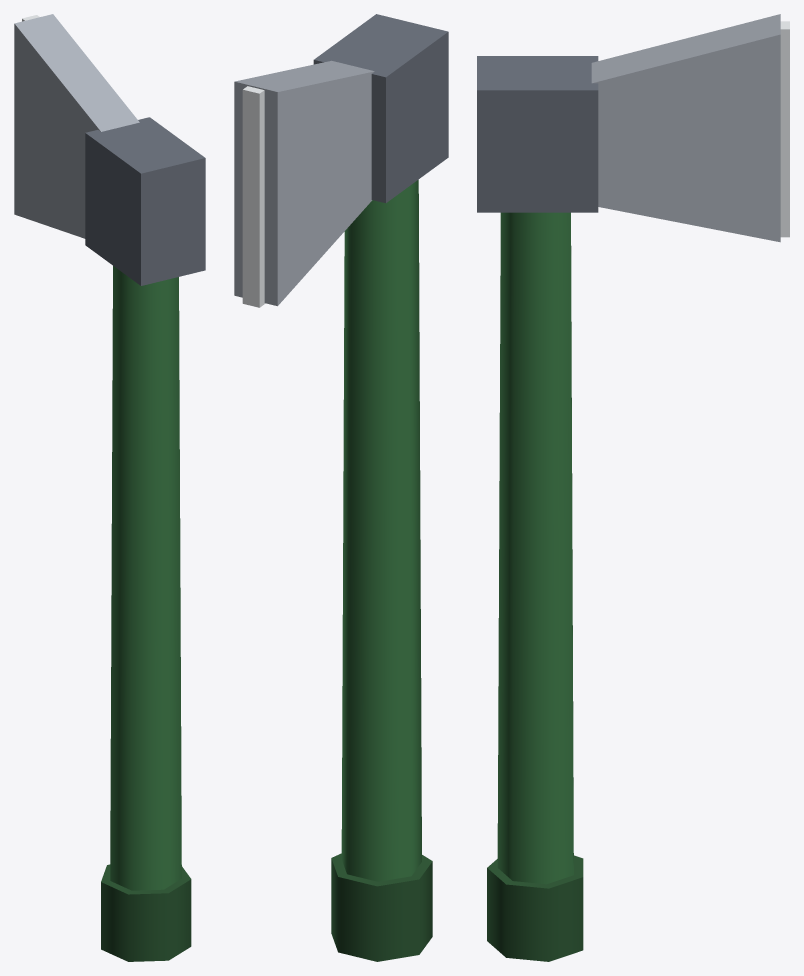
File: tool_twins.glb
3 renders of one model, left to right at view 1: azimuth 30°, elevation 25°; view 2: azimuth 150°, elevation 25°; view 3: azimuth 270°, elevation 25°, orthographic. The views are drawn at different scales.
Visible parts, largest first — view 1: _MeshInstance3D_855, _MeshInstance3D_857, _MeshInstance3D_858, _MeshInstance3D_856; view 2: _MeshInstance3D_855, _MeshInstance3D_858, _MeshInstance3D_857, _MeshInstance3D_856, _MeshInstance3D_859; view 3: _MeshInstance3D_855, _MeshInstance3D_858, _MeshInstance3D_857, _MeshInstance3D_856, _MeshInstance3D_859.
Boxes of the visible parts, x1,y1,x2,y2 form: _MeshInstance3D_855: (110, 266, 181, 890); _MeshInstance3D_857: (85, 117, 205, 285); _MeshInstance3D_858: (14, 14, 139, 238); _MeshInstance3D_856: (101, 864, 191, 961); _MeshInstance3D_855: (341, 180, 421, 881); _MeshInstance3D_858: (234, 60, 374, 306); _MeshInstance3D_857: (313, 14, 448, 203); _MeshInstance3D_856: (331, 853, 432, 961); _MeshInstance3D_859: (242, 86, 265, 307); _MeshInstance3D_855: (497, 212, 573, 884); _MeshInstance3D_858: (591, 14, 780, 242); _MeshInstance3D_857: (477, 56, 598, 212); _MeshInstance3D_856: (487, 855, 583, 961); _MeshInstance3D_859: (780, 21, 789, 237).
Bounding box in the file's own units: 0.0366 × 0.375 × 0.116.
